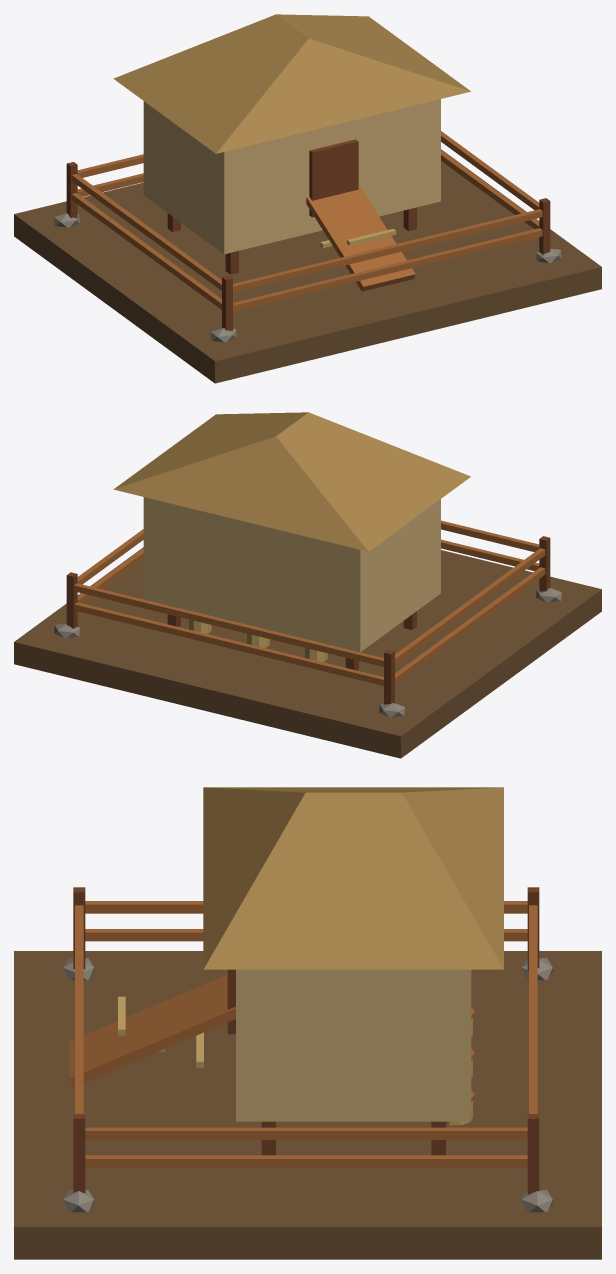
File: chicken_coop.glb
3 renders of one model, top to bottom at view 1: azimuth 30°, elevation 25°; view 2: azimuth 150°, elevation 25°; view 3: azimuth 270°, elevation 25°, orthographic. The views are drawn at different scales.
Parts seen in each view (by area): view 1: Building_Base, CoopRoof, CoopBox, ChickenRamp, ChickenRunRail.001, ChickenRunRail, CoopDoor, ChickenRunRail.004, ChickenRunRail.005, ChickenRunRail.007, ChickenRunRail.006, ChickenRunRail.003 (+4 smaller); view 2: Building_Base, CoopBox, CoopRoof, ChickenRunRail.003, ChickenRunRail.002, ChickenRunRail.004, ChickenRunRail.005, ChickenRunRail.001, ChickenRunRail, ChickenRunRail.007, ChickenRunRail.006, ChickenRunPost.003 (+2 smaller); view 3: Building_Base, CoopRoof, CoopBox, ChickenRamp, ChickenRunRail.006, ChickenRunRail.007, ChickenRunRail.001, ChickenRunRail.003, ChickenRunRail.005, ChickenRunRail.004, ChickenRunPost.003, ChickenRunPost.002.
Part boxes in pixels (box(x1,y1,x2,y2)): Building_Base: box(14, 149, 601, 383); CoopRoof: box(113, 14, 470, 153); CoopBox: box(143, 99, 440, 254); ChickenRamp: box(306, 185, 415, 291); ChickenRunRail.001: box(233, 209, 542, 292); ChickenRunRail: box(233, 228, 542, 311); CoopDoor: box(309, 139, 358, 217); ChickenRunRail.004: box(71, 193, 221, 309); ChickenRunRail.005: box(71, 174, 221, 290); ChickenRunRail.007: box(441, 131, 539, 210); ChickenRunRail.006: box(441, 150, 539, 229); ChickenRunRail.003: box(77, 154, 143, 177); Building_Base: box(14, 547, 601, 758); CoopBox: box(143, 497, 440, 652); CoopRoof: box(113, 412, 470, 551); ChickenRunRail.003: box(74, 583, 383, 666); ChickenRunRail.002: box(74, 602, 383, 685); ChickenRunRail.004: box(395, 567, 545, 683); ChickenRunRail.005: box(395, 548, 545, 664); ChickenRunRail.001: box(441, 520, 539, 551); ChickenRunRail: box(441, 539, 539, 571); ChickenRunRail.007: box(77, 529, 143, 584); ChickenRunRail.006: box(77, 548, 143, 603); ChickenRunPost.003: box(66, 572, 77, 628); Building_Base: box(14, 951, 601, 1259); CoopRoof: box(203, 787, 503, 969); CoopBox: box(236, 969, 471, 1121); ChickenRamp: box(69, 975, 235, 1086); ChickenRunRail.006: box(85, 1155, 527, 1167); ChickenRunRail.007: box(85, 1127, 527, 1139); ChickenRunRail.001: box(75, 905, 83, 1113); ChickenRunRail.003: box(529, 905, 537, 1113); ChickenRunRail.005: box(85, 901, 527, 913); ChickenRunRail.004: box(85, 929, 527, 941); ChickenRunPost.003: box(527, 1114, 539, 1194); ChickenRunPost.002: box(73, 1114, 85, 1193).
Size of the model in its own units: 10 by 5.56 by 9.
